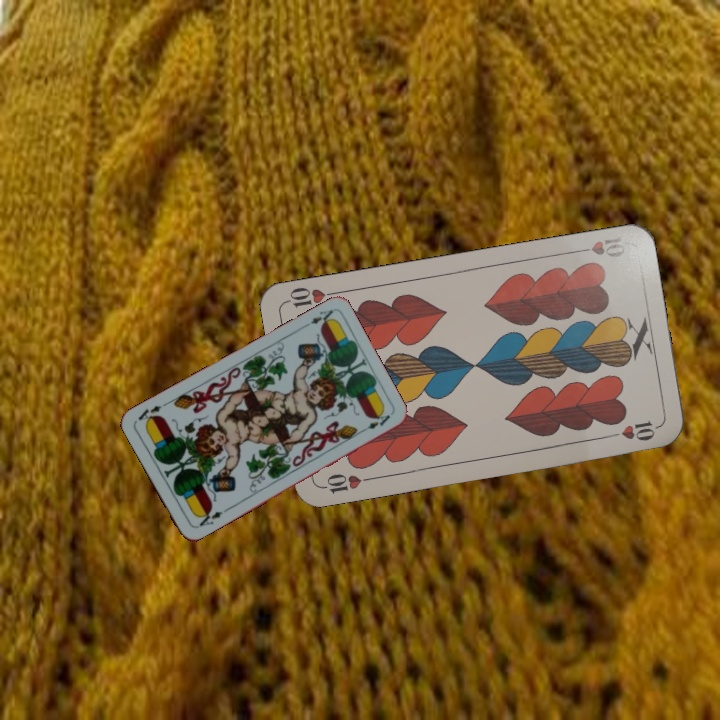EA: (298, 306, 337, 331), (193, 505, 230, 530)
H10: (315, 469, 374, 497), (570, 232, 628, 260)
